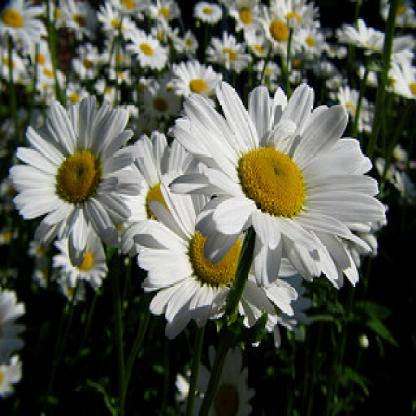ASTER: (10, 48, 398, 346)
